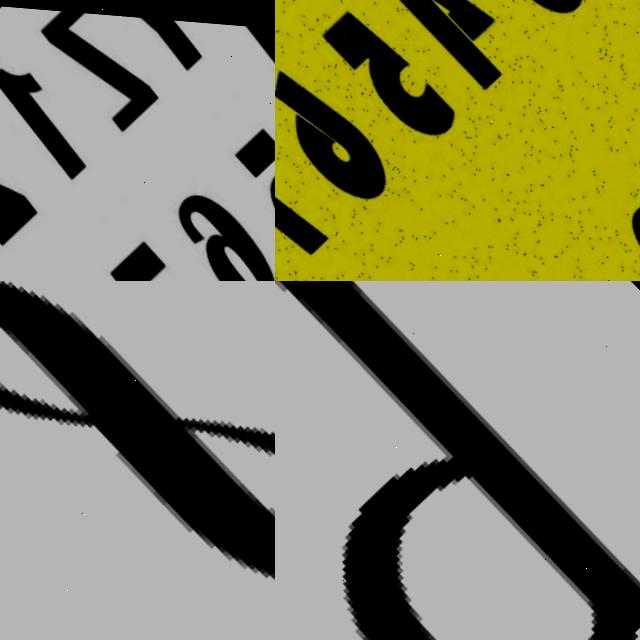1: (0, 23, 127, 204)
2: (0, 84, 62, 260)
3: (430, 0, 598, 35)
4: (358, 0, 533, 95)
5: (284, 0, 472, 161), (199, 91, 275, 274)
6: (275, 26, 415, 228), (142, 154, 275, 281)
7: (275, 96, 353, 281), (79, 212, 253, 281)
8: (0, 281, 275, 640)
B: (277, 281, 640, 640)
